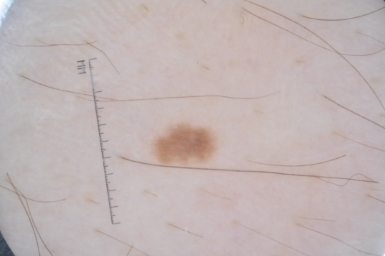nevus: (151, 127, 214, 167)
